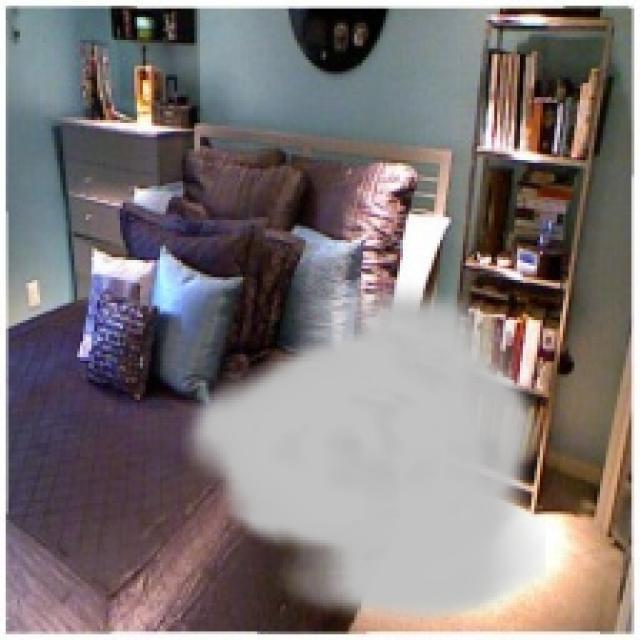Smoke: (180, 277, 546, 629)
